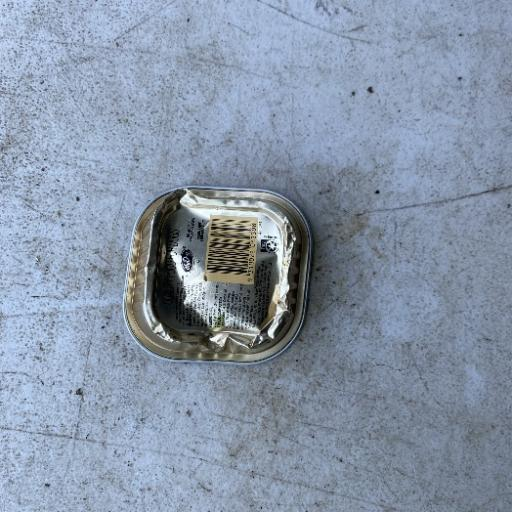Metal: (122, 184, 313, 366)
